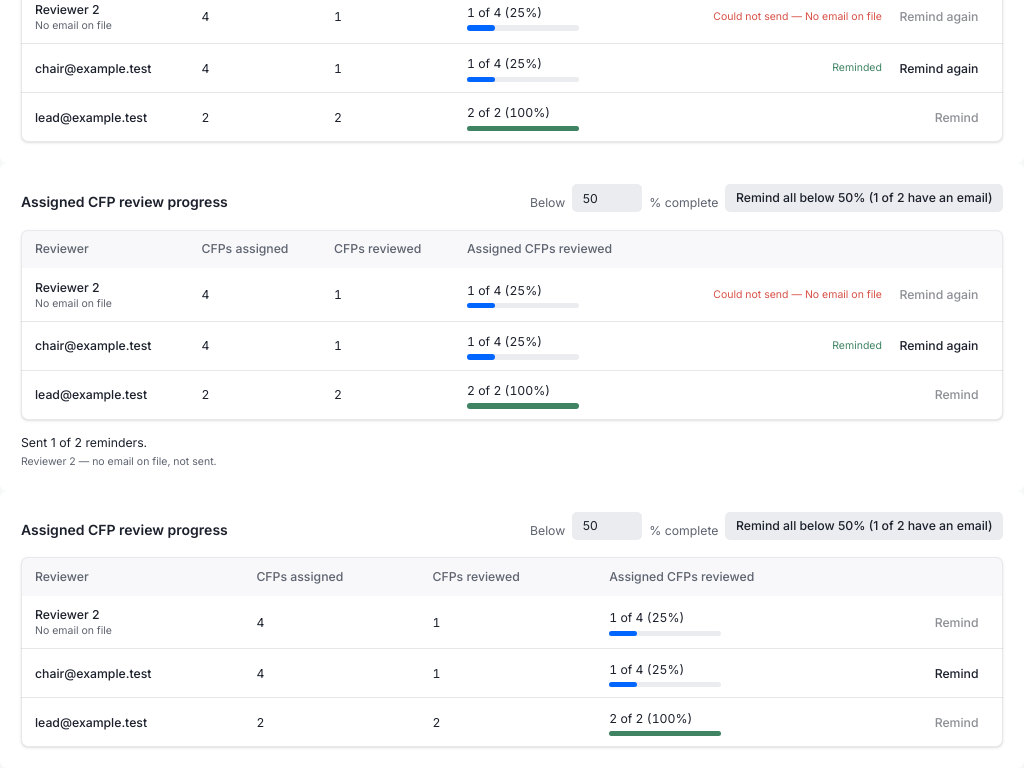
Test case: ReviewerProgressPanel › keeps the table rendered when a send fails
The width and height of the screenshot is (1024, 768).
(page scrolled)
Click the 4th button "Remind" at (957, 674), box [924, 660, 989, 688]
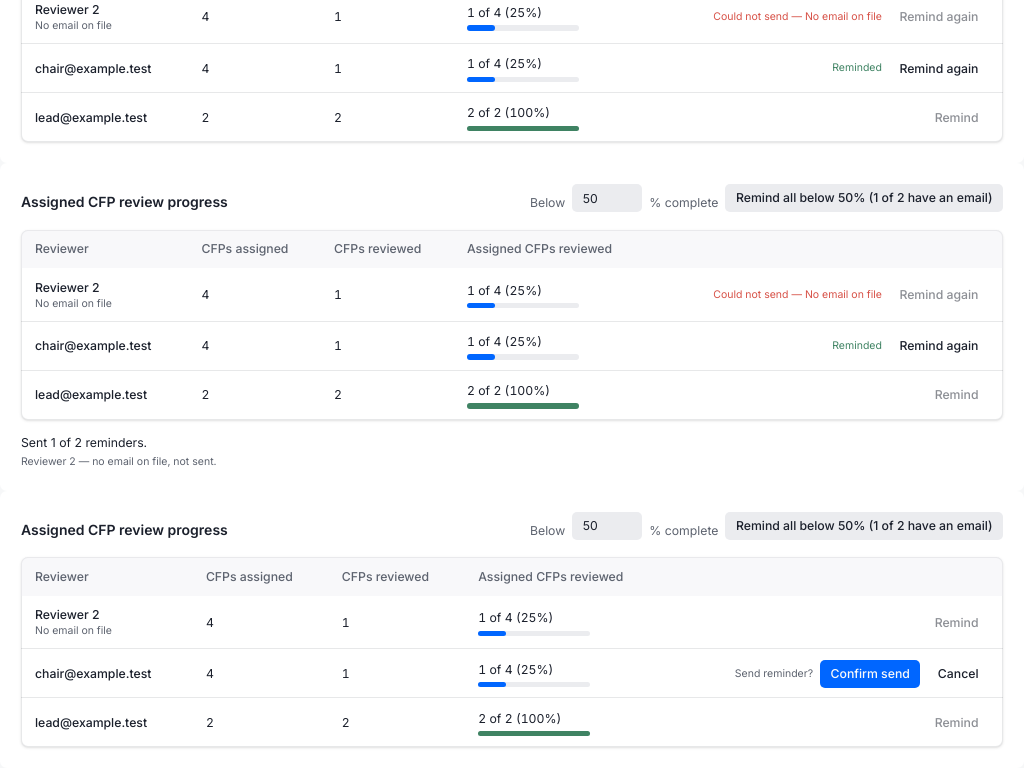
Click the button "Confirm send" at (870, 674), box [820, 660, 920, 688]
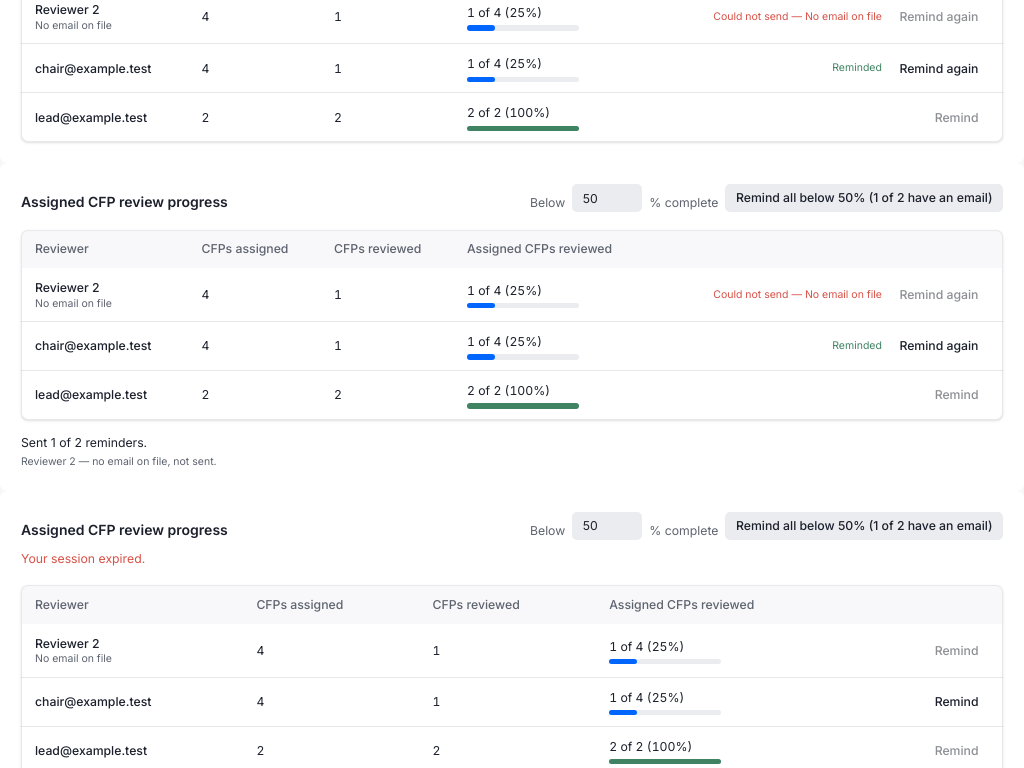
Expected: the message "Your session expired." is shown, [21, 551, 145, 566]
